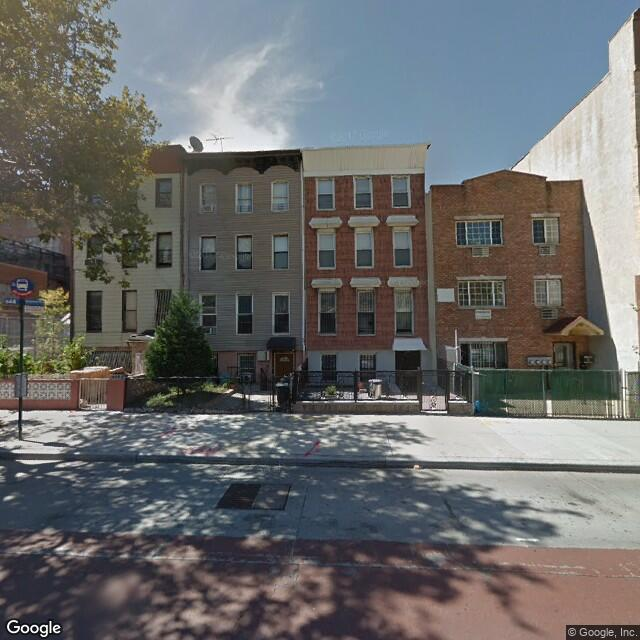litter: (405, 460, 442, 476)
